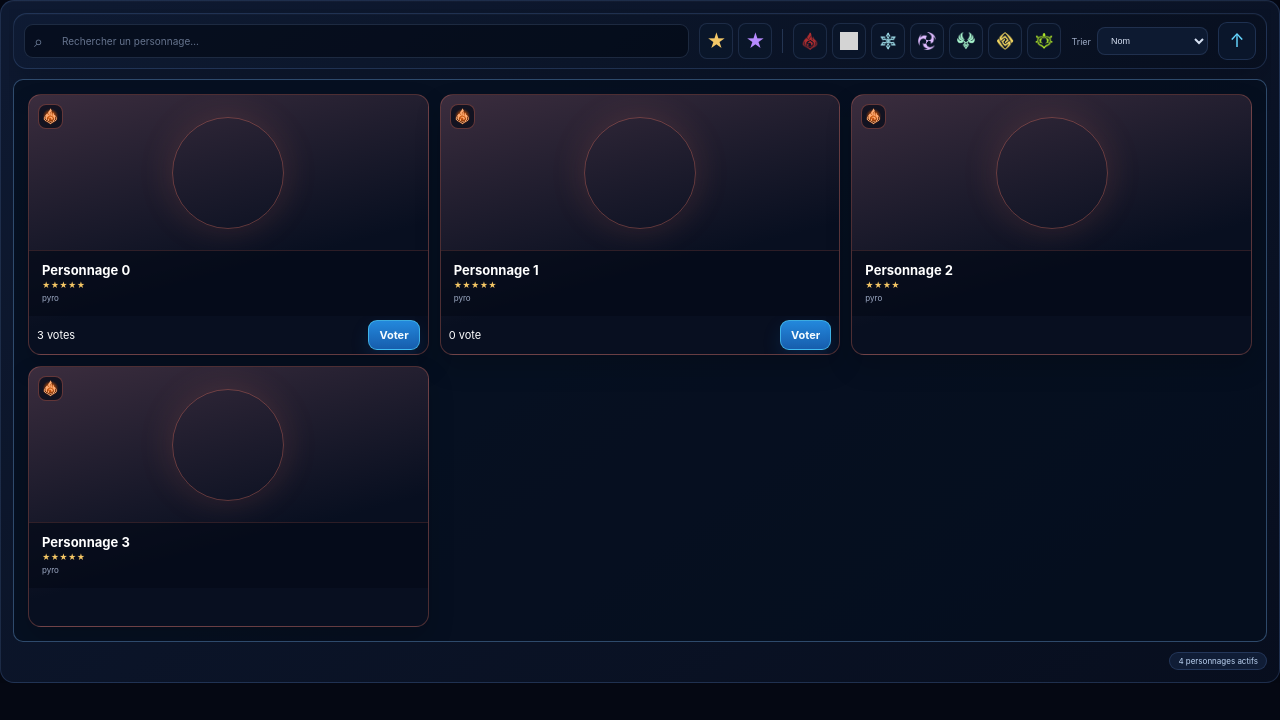
Scenario: Catalogue community votes › does not overlap slow reads on repeated focus and preserves filters
Click the button named "Filtrer les personnages 4 étoiles" at (755, 41), box [738,23,772,59]
Wait 3000 ms
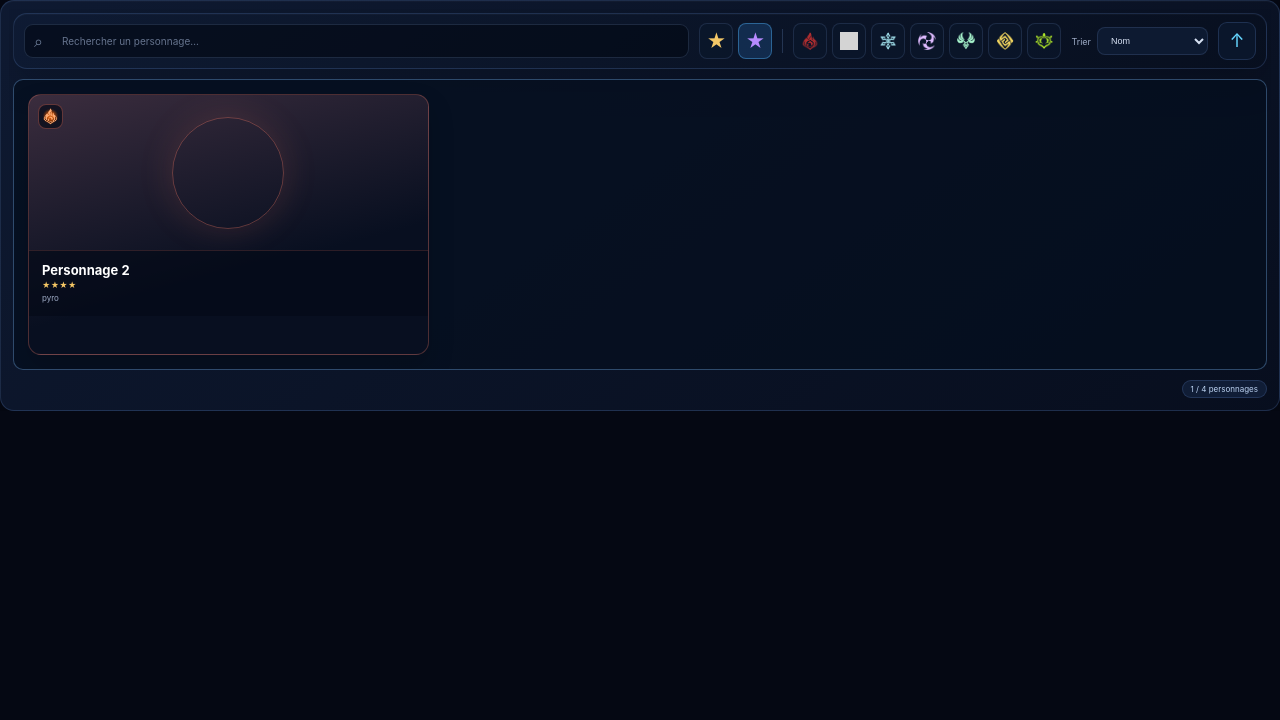
Expected: no elements with class "catalog-character-vote" are shown
Expected: the number of elements with class "character-card" is 1, [28,94,429,355]
